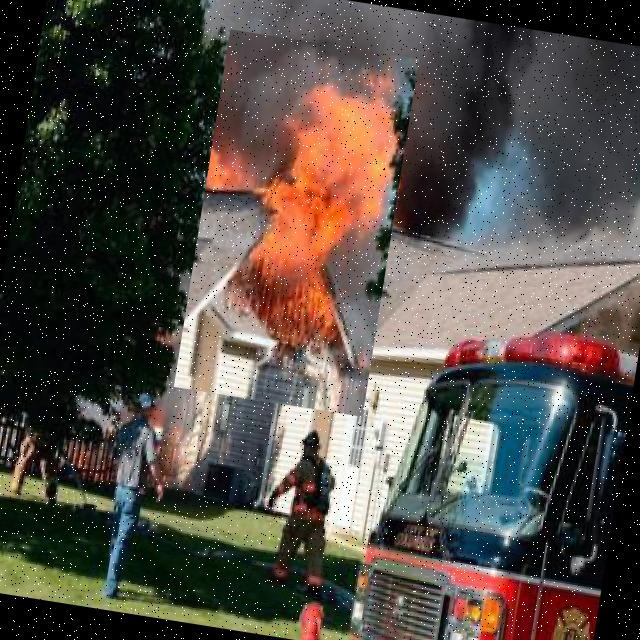fire: (174, 29, 419, 417)
